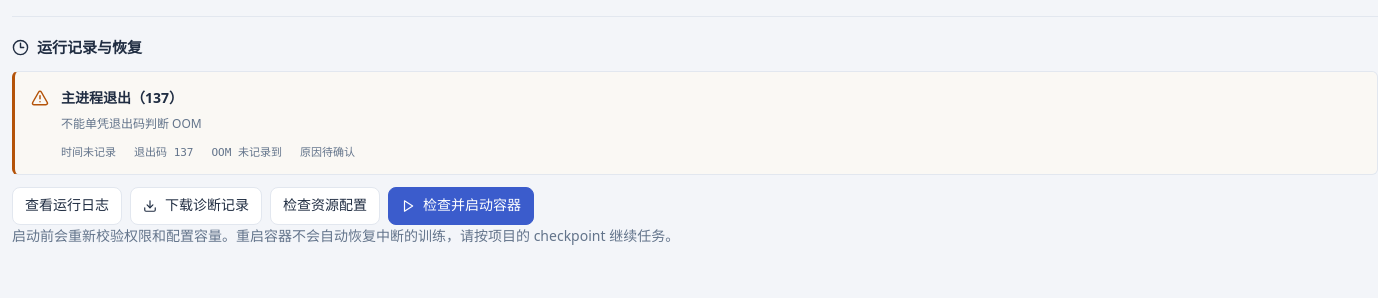
it: recovery preserves uncertainty and uses the normal checked start API
Expected: the text "原因待确认" is shown, [300,143,355,159]
What coordinates should you click on to do the following:
click the button "检查并启动容器"
I would click on:
 (461, 206)
Its box is [388,187,534,225].
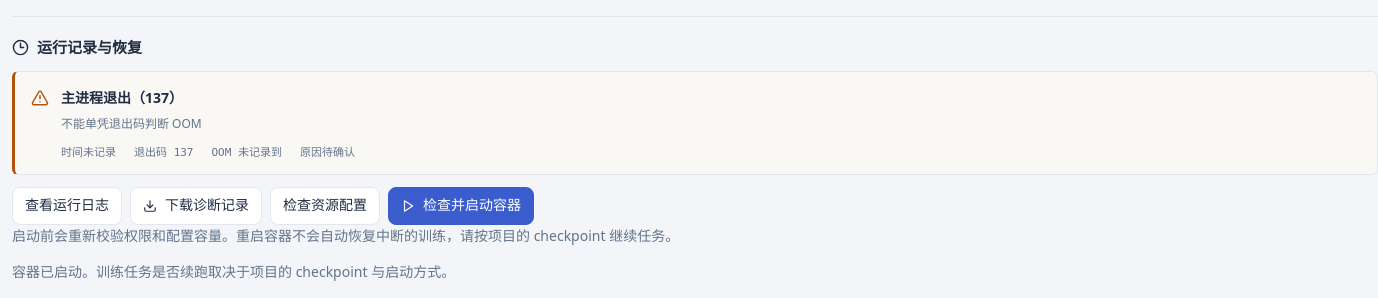
Now the message shows "checkpoint", box [12,262,455,281]
